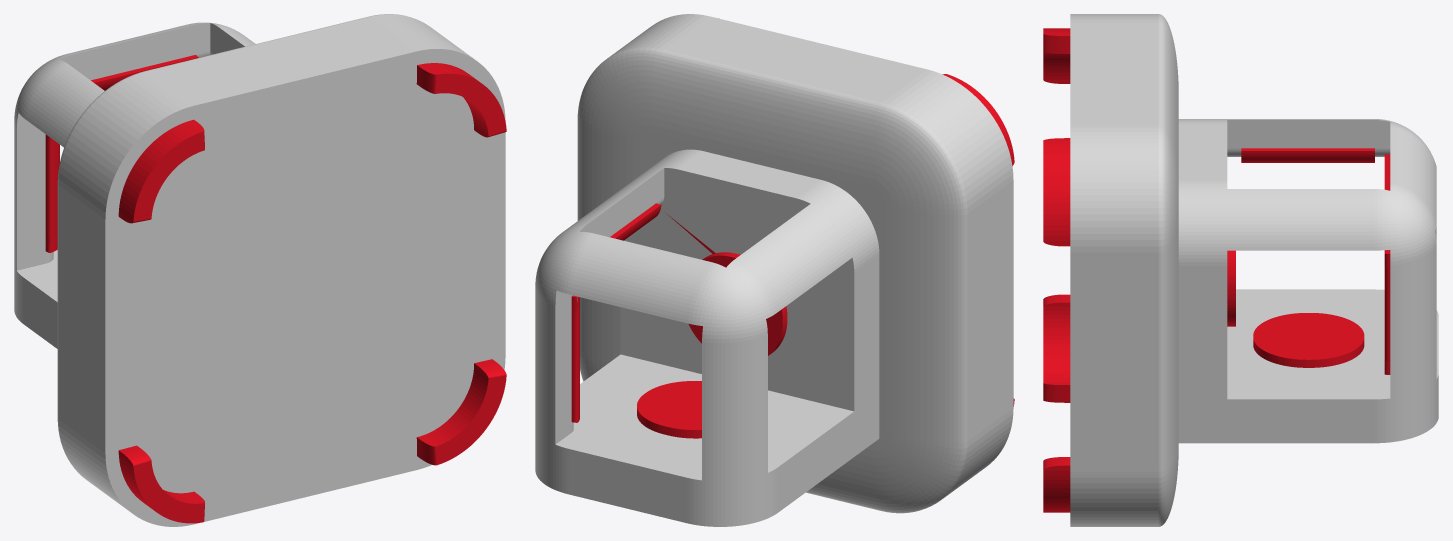
File: slider_station.fbx
The picture shows the model from 3 angles, left to right: view 1: azimuth 30°, elevation 25°; view 2: azimuth 150°, elevation 25°; view 3: azimuth 270°, elevation 25°; orthographic projection. The views are drawn at different scales.
Parts seen in each view (by area): view 1: Cube; view 2: Cube; view 3: Cube.
Boxes of the visible parts, box(x1,y1,x2,y2) form: Cube: box(14, 14, 506, 526); Cube: box(535, 14, 1014, 526); Cube: box(1043, 14, 1438, 526).
Bounding box in the file's own units: 200 × 200 × 183.
